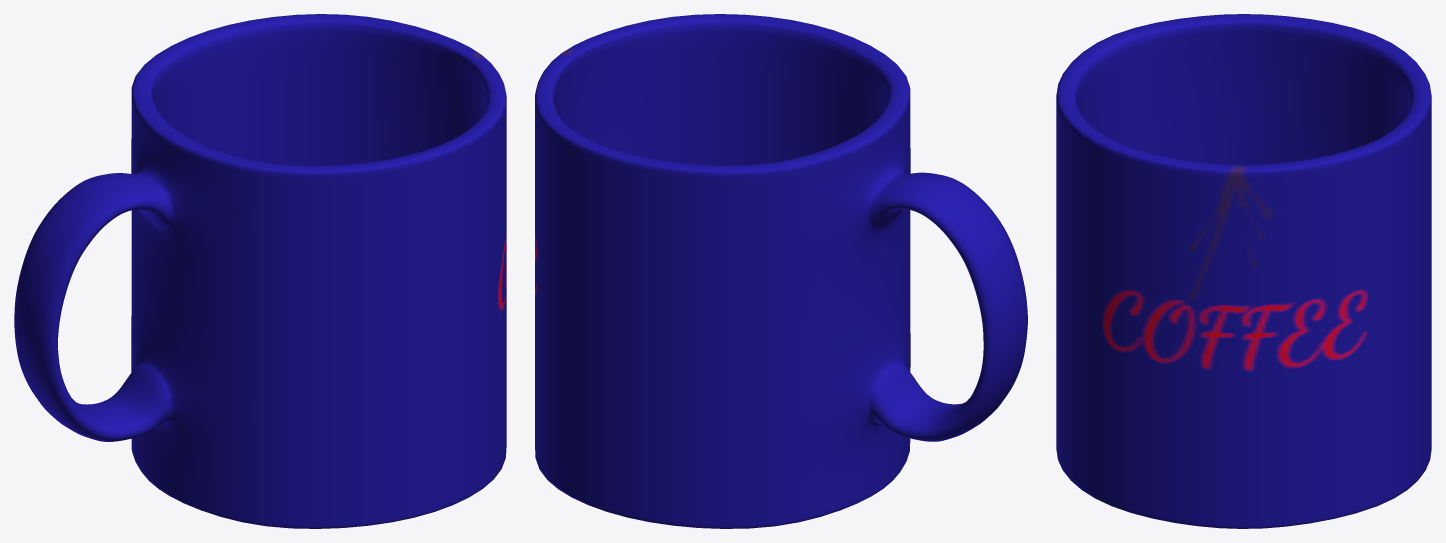
The model's file is obj_mug_ad2546.glb.
3 renders of one model, left to right at view 1: azimuth 30°, elevation 25°; view 2: azimuth 150°, elevation 25°; view 3: azimuth 270°, elevation 25°, orthographic.
Visible parts, largest first — view 1: obj_mug_ad2546; view 2: obj_mug_ad2546; view 3: obj_mug_ad2546.
Part boxes in pixels (x1,y1,x2,y2): obj_mug_ad2546: [14, 14, 506, 528]; obj_mug_ad2546: [535, 14, 1027, 528]; obj_mug_ad2546: [1056, 14, 1431, 528].
Bounding box in the file's own units: 0.1333 × 0.1 × 0.0947.
1 material, 1 textured.
